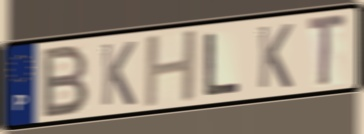B: (40, 42, 92, 121)
H: (142, 27, 199, 111)
K: (99, 39, 138, 109), (256, 22, 295, 92)
L: (202, 30, 243, 98)
T: (305, 11, 349, 91)
